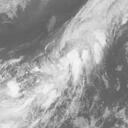cyclone: (41, 44, 87, 91)
